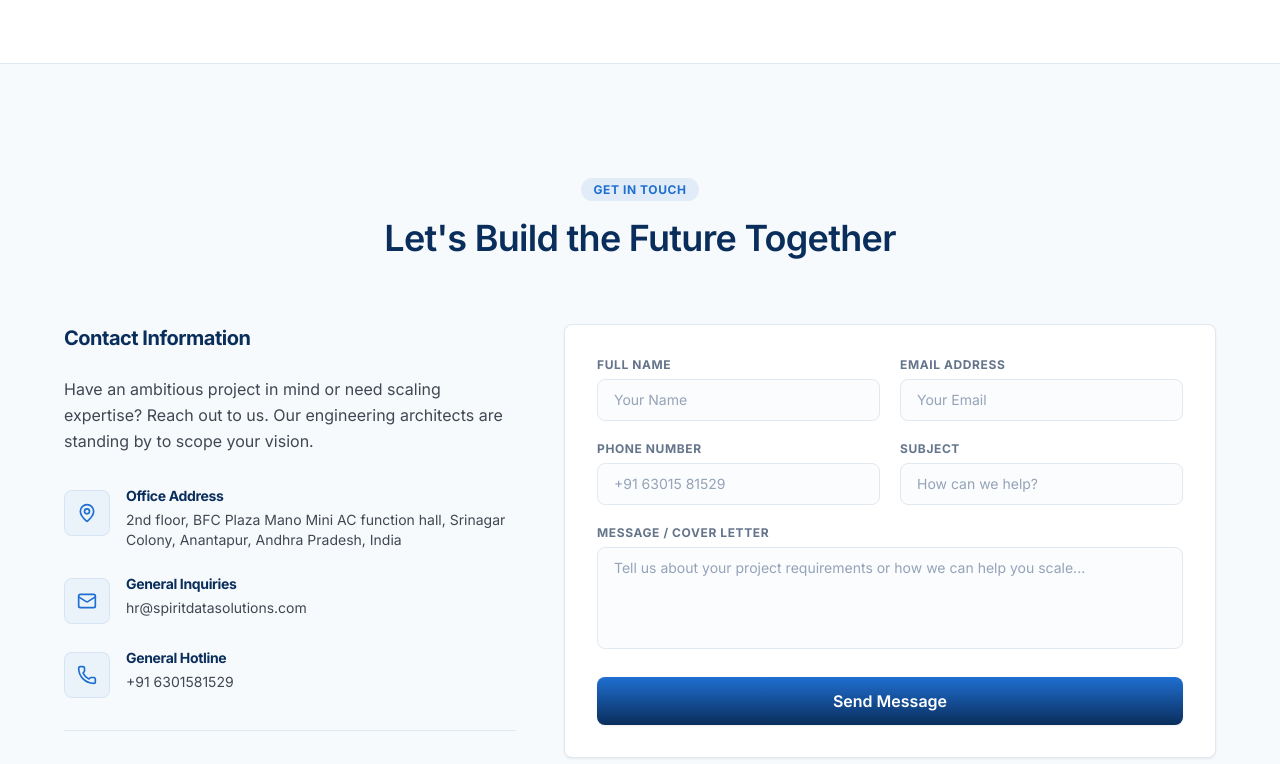
Home › should display warning banner if access key is missing
(page scrolled)
Type "Jane Doe" into the field with placeholder "Your Name" at (738, 400), box x1=597 y1=379 x2=880 y2=421
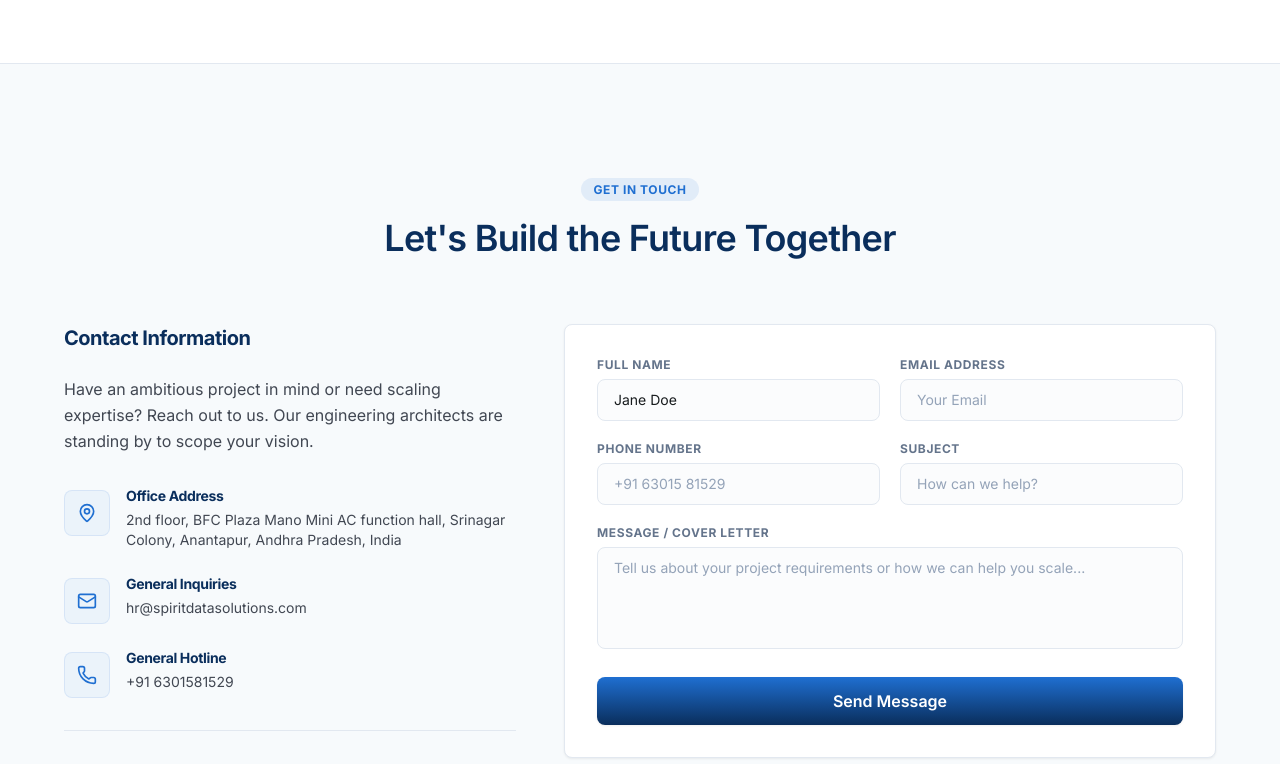
Type "jane@company.com" into the field with placeholder "Your Email" at (1042, 400), box x1=900 y1=379 x2=1183 y2=421
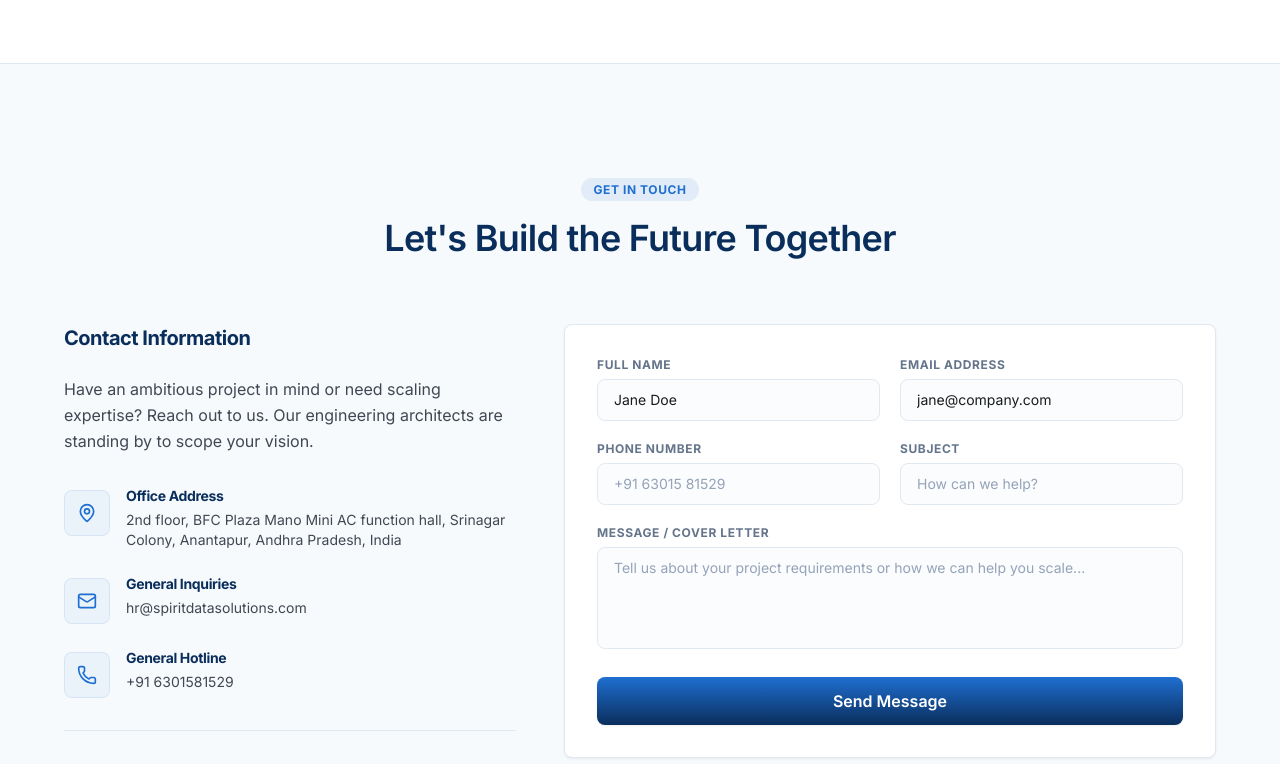
Type "Inquiry" into the field with placeholder "How can we help?" at (1042, 484), box x1=900 y1=463 x2=1183 y2=505
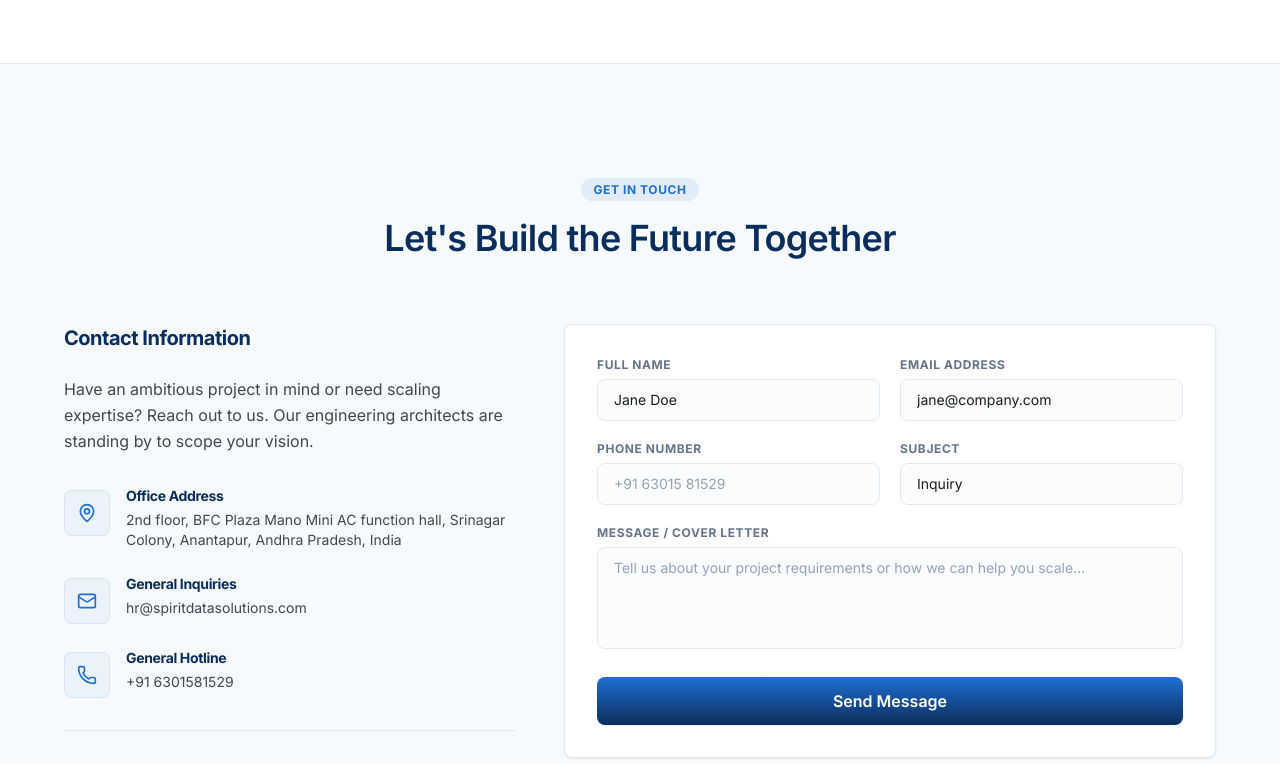
Replace the text in the text box with placeholder "requirements" with "Hello" at (890, 598), box x1=597 y1=547 x2=1183 y2=649
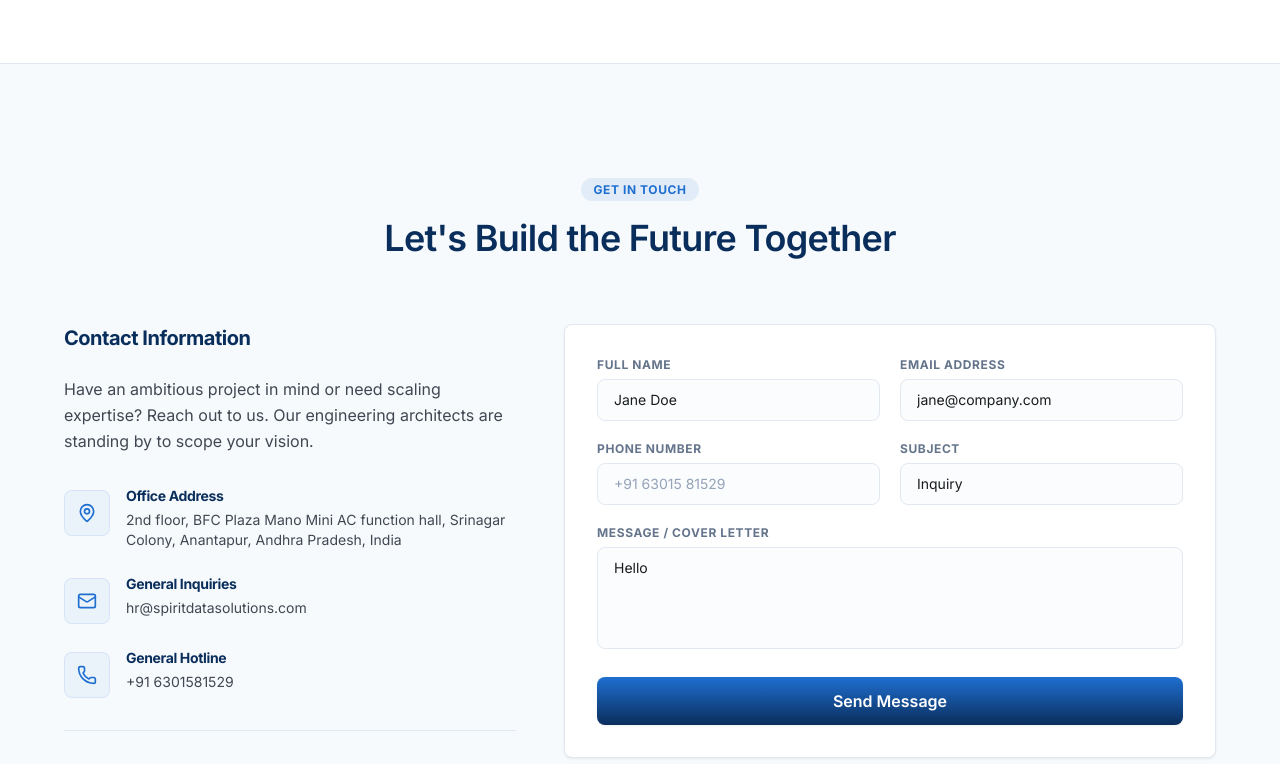
Click the button "Send Message" at (890, 701), box x1=597 y1=677 x2=1183 y2=725
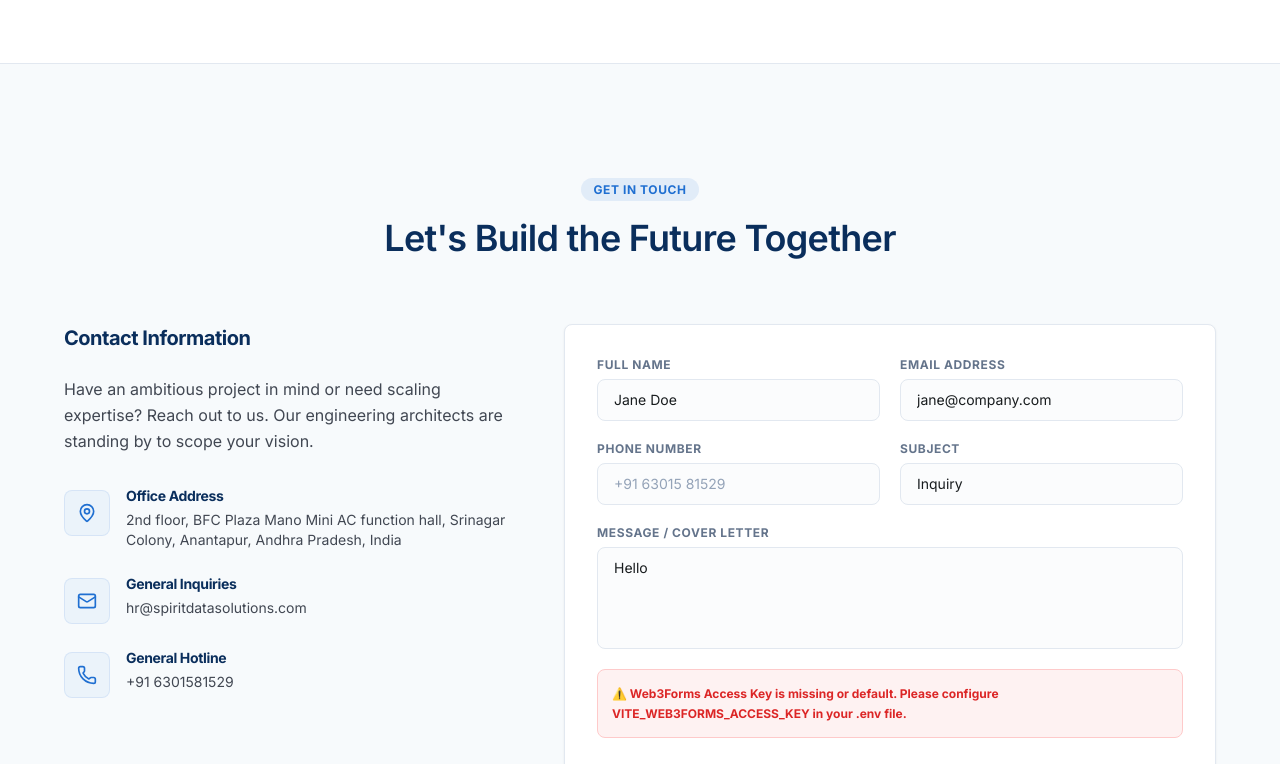
Now the text "Access Key is missing" is shown, box x1=612 y1=686 x2=998 y2=721
